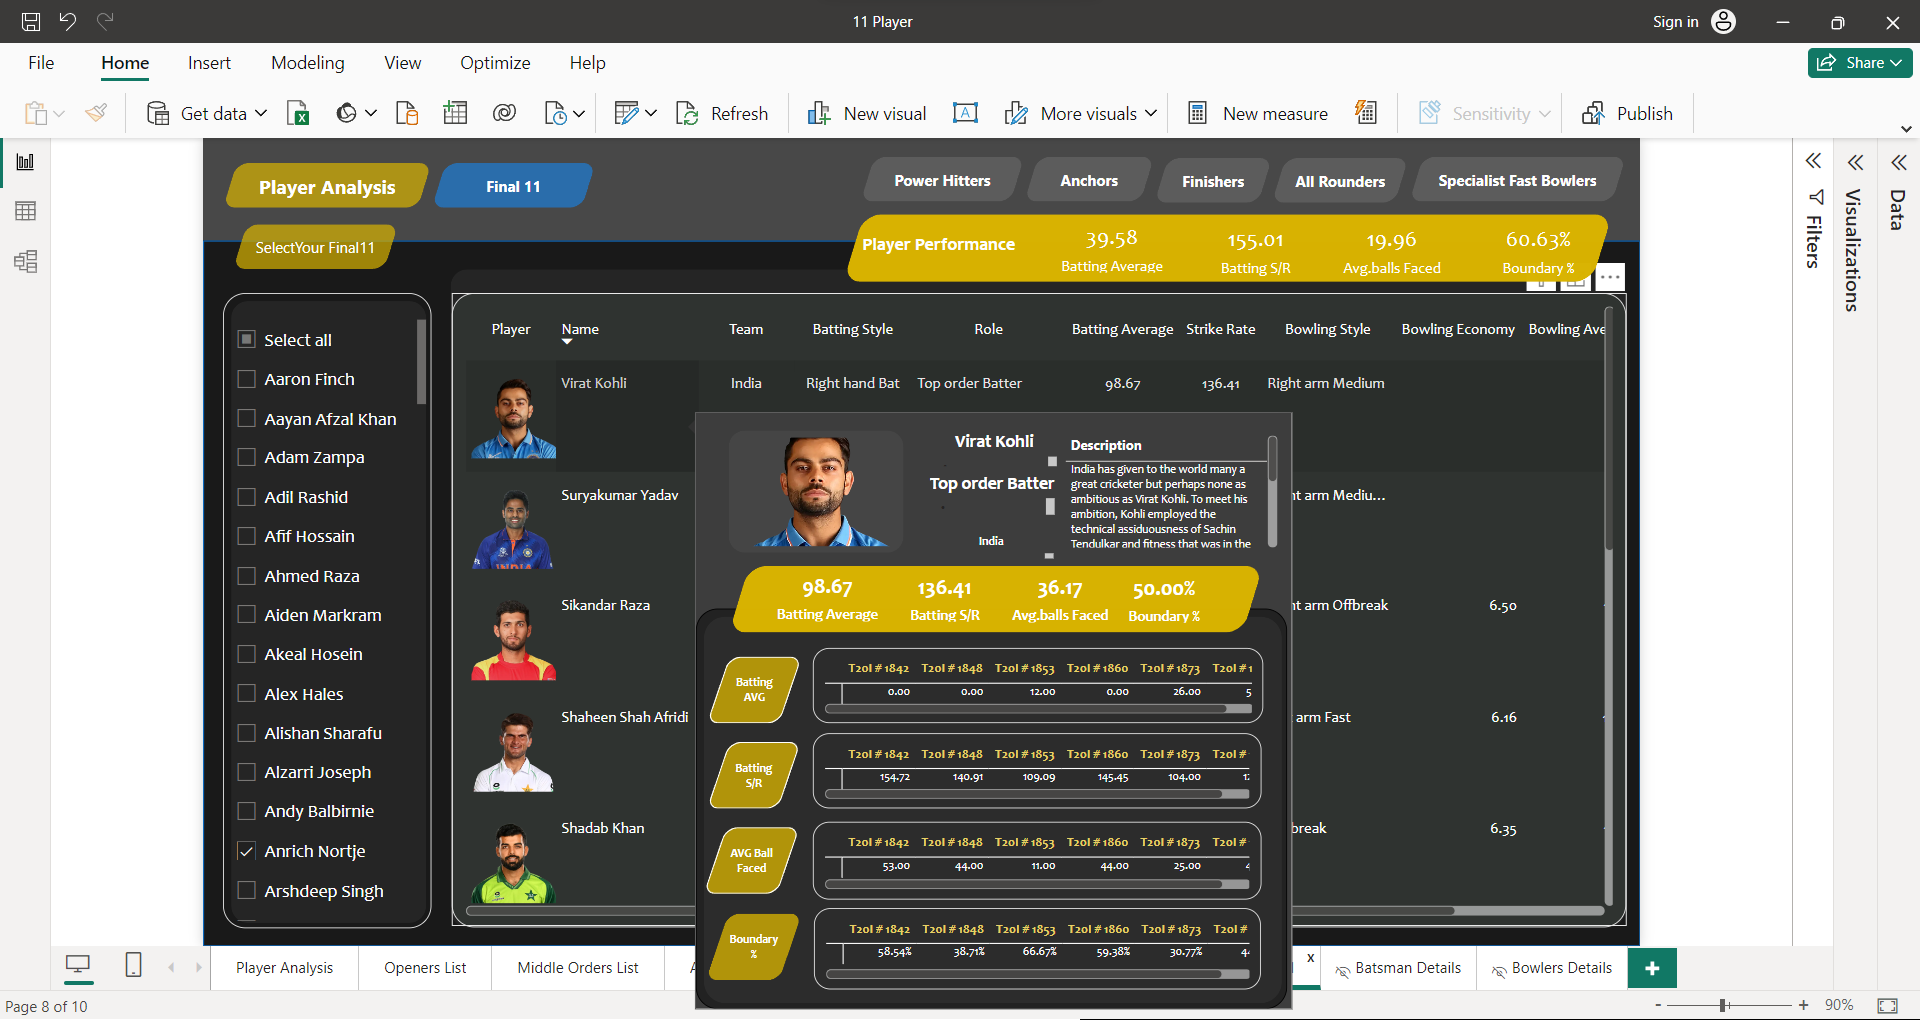

The dashboard page shown, as its layout file describes it:
{"tool":"powerbi","page":{"name":"Final 11","canvas":[1280,720],"ordinal":7},"visuals":[{"type":"shape","box":[0,91.7,1279.6,628.3],"z":0},{"type":"shape","box":[220.7,117,1045.6,586.1],"z":1000},{"type":"shape","box":[18.1,137.5,185.7,565.6],"z":2000},{"type":"actionButton","box":[584.9,16.9,145.9,39.8],"z":3000},{"type":"actionButton","box":[730.9,16.9,115.8,39.8],"z":4000},{"type":"actionButton","box":[846.6,18.1,104.9,39.8],"z":5000},{"type":"actionButton","box":[951.6,18.1,121.8,39.8],"z":6000},{"type":"actionButton","box":[1073.4,16.9,193,39.8],"z":7000},{"type":"actionButton","box":[203.8,21.7,145.9,39.8],"z":8000},{"type":"actionButton","box":[18.1,21.7,185.7,39.8],"z":9000},{"type":"slicer","fields":{"Values":["Players_Summary.name"]},"box":[18.1,156.8,186,545],"z":10000},{"type":"tableEx","fields":{"Values":["Players_Summary.image","Players_Summary.name","Players_Summary.team","Players_Summary.battingStyle","Players_Summary.playingRole","Key Measure.Batting Average","Key Measure.Strike rate","Players_Summary.bowlingStyle","Key Measure.Bowling Economy","Key Measure.Bowling Average","Key Measure.Bowling Strike Rate"]},"box":[221.9,137.5,1045.6,564.4],"z":11000},{"type":"actionButton","box":[26.5,77.2,147.1,39.8],"z":12000},{"type":"shape","box":[569.2,67.5,685,60.3],"z":13000},{"type":"card","fields":{"Values":["Key Measure.Batting Average"]},"box":[744.1,67.5,130.3,56.7],"z":14000},{"type":"card","fields":{"Values":["Key Measure.Strike rate"]},"box":[872,67.5,130.3,60.3],"z":15000},{"type":"card","fields":{"Values":["Key Measure.Avg.balls Faced"]},"box":[993.8,67.5,130.3,60.3],"z":16000},{"type":"card","fields":{"Values":["Key Measure.Boundary %"]},"box":[1124,67.5,130.3,60.3],"z":17000},{"type":"textbox","box":[582.5,79.6,162.8,39.8],"z":18000}]}

Visuals, with their boxes on the page's 1280x720 design canvas (x1, y1, x2, y2). These are canvas units, not pixel positions in the 1920x1020 screenshot, which may show the page scaled, cropped or inside an application window:
shape: detection(0, 92, 1280, 720)
shape: detection(221, 117, 1266, 703)
shape: detection(18, 138, 204, 703)
actionButton: detection(585, 17, 731, 57)
actionButton: detection(731, 17, 847, 57)
actionButton: detection(847, 18, 952, 58)
actionButton: detection(952, 18, 1073, 58)
actionButton: detection(1073, 17, 1266, 57)
actionButton: detection(204, 22, 350, 62)
actionButton: detection(18, 22, 204, 62)
slicer - Players_Summary.name: detection(18, 157, 204, 702)
tableEx - Players_Summary.image x Players_Summary.name: detection(222, 138, 1268, 702)
actionButton: detection(26, 77, 174, 117)
shape: detection(569, 68, 1254, 128)
card - Key Measure.Batting Average: detection(744, 68, 874, 124)
card - Key Measure.Strike rate: detection(872, 68, 1002, 128)
card - Key Measure.Avg.balls Faced: detection(994, 68, 1124, 128)
card - Key Measure.Boundary %: detection(1124, 68, 1254, 128)
textbox: detection(582, 80, 745, 119)
